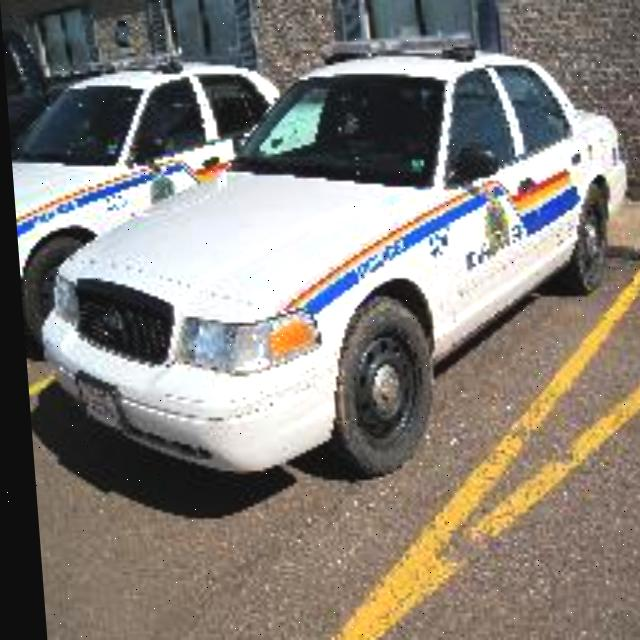emergency: (29, 38, 640, 480), (4, 65, 400, 355)
